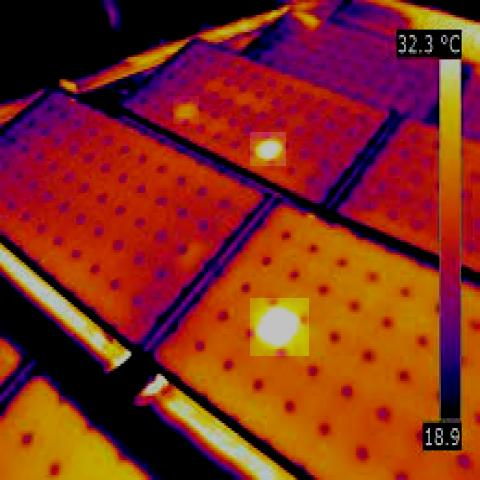fault: (250, 298, 309, 356), (250, 132, 286, 166), (173, 96, 199, 124)
